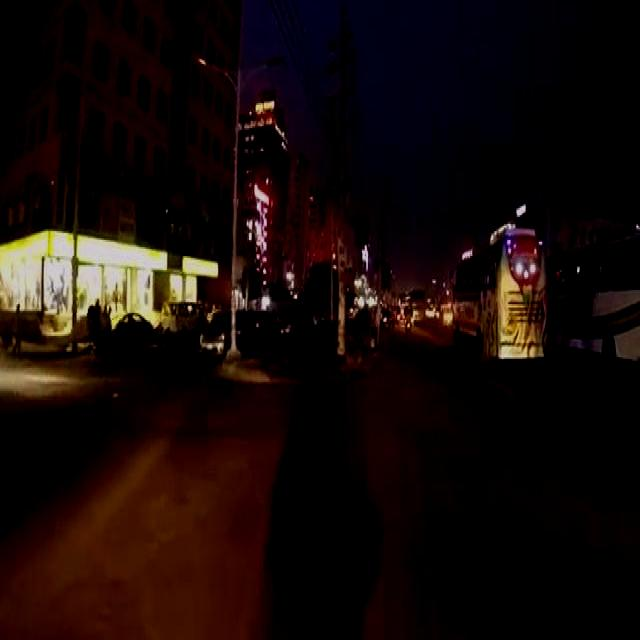BUS: (448, 222, 549, 378)
